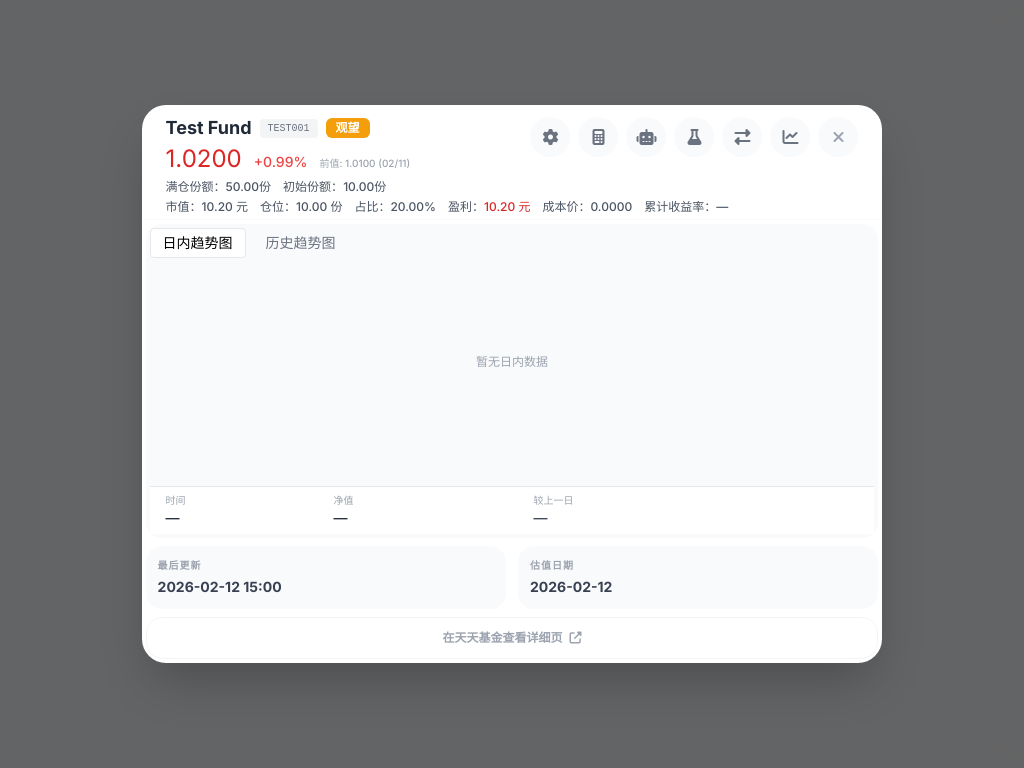
Test: position config persistence and UI › clear button removes persisted config and hides UI
The width and height of the screenshot is (1024, 768).
Check: the text "满仓份额：50.00份" is shown, box [166,179,271,195]
Check: the text "50.00份" is shown, box [226,179,271,194]
open modal and click clear
Click the button named "基金设置": [550, 137] box [530,117,570,157]
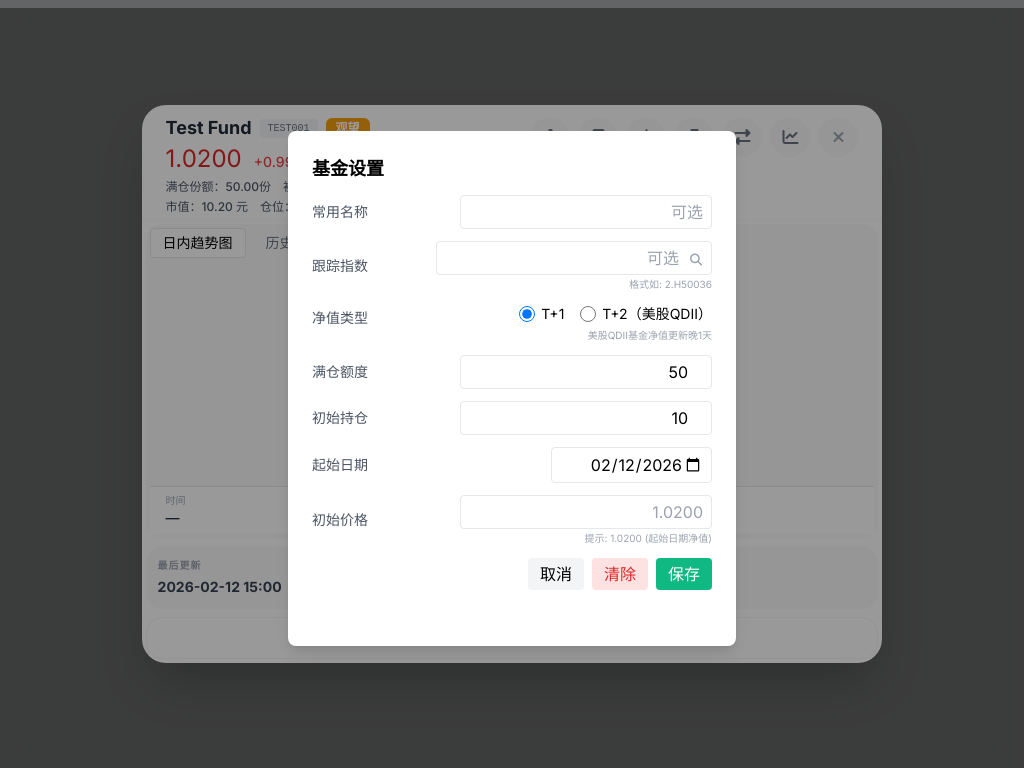
Click the button "清除": [620, 574] box [592,558,648,590]
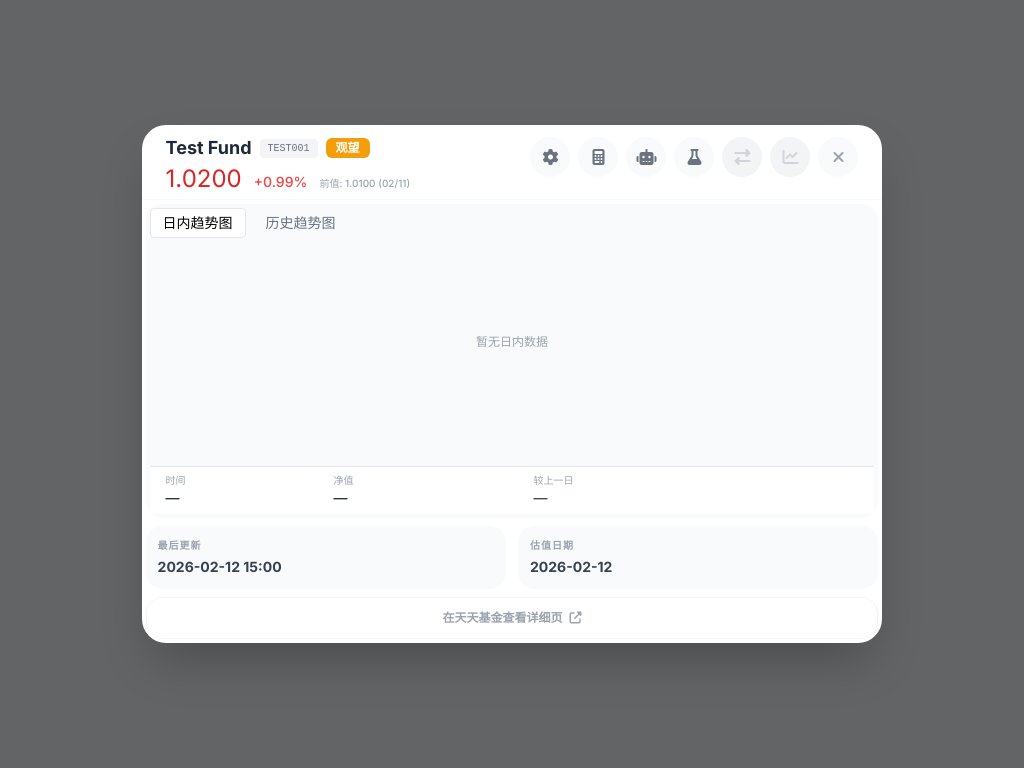
Check: the text "满仓" is gone
